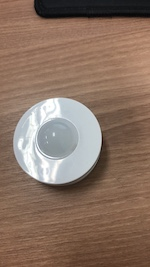bulb: (13, 97, 102, 187)
